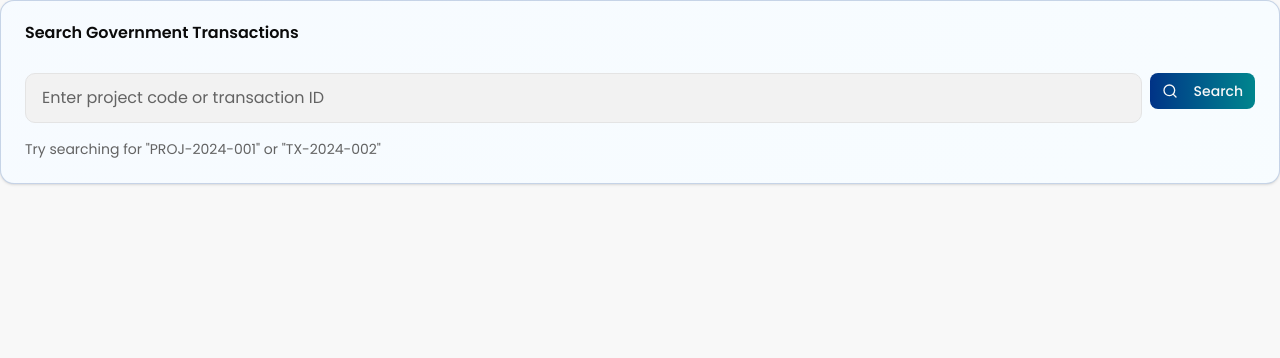
Test: UI Components › Component Integration › should handle error states
Type "INVALID-001" into the field with placeholder "Enter project code or transaction ID" at point(583, 98), box x1=25 y1=73 x2=1142 y2=123
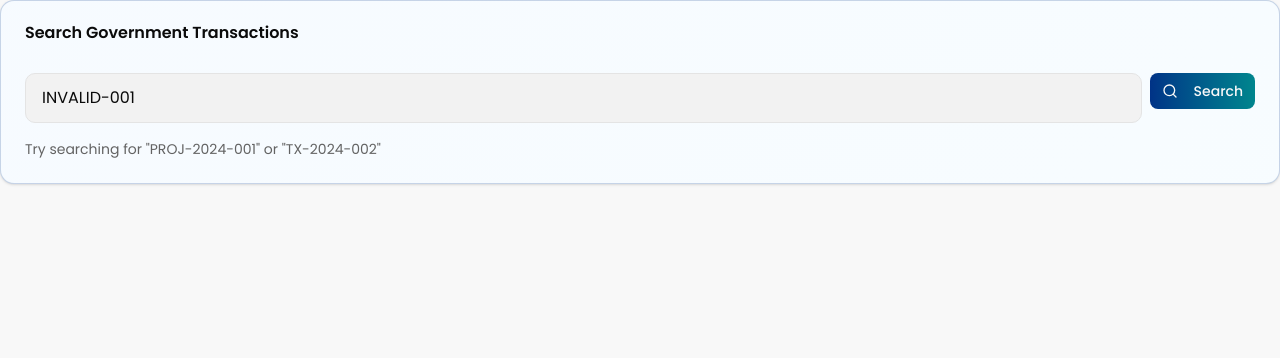
Click the button "Search" at point(1202, 91), box x1=1150 y1=73 x2=1255 y2=109
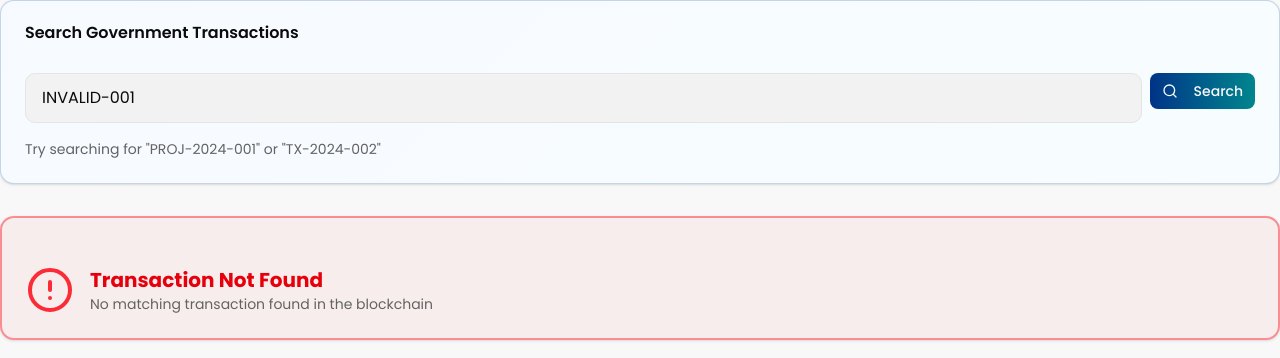
Result: the heading "Transaction Not Found" is shown at x1=90 y1=266 x2=323 y2=294
